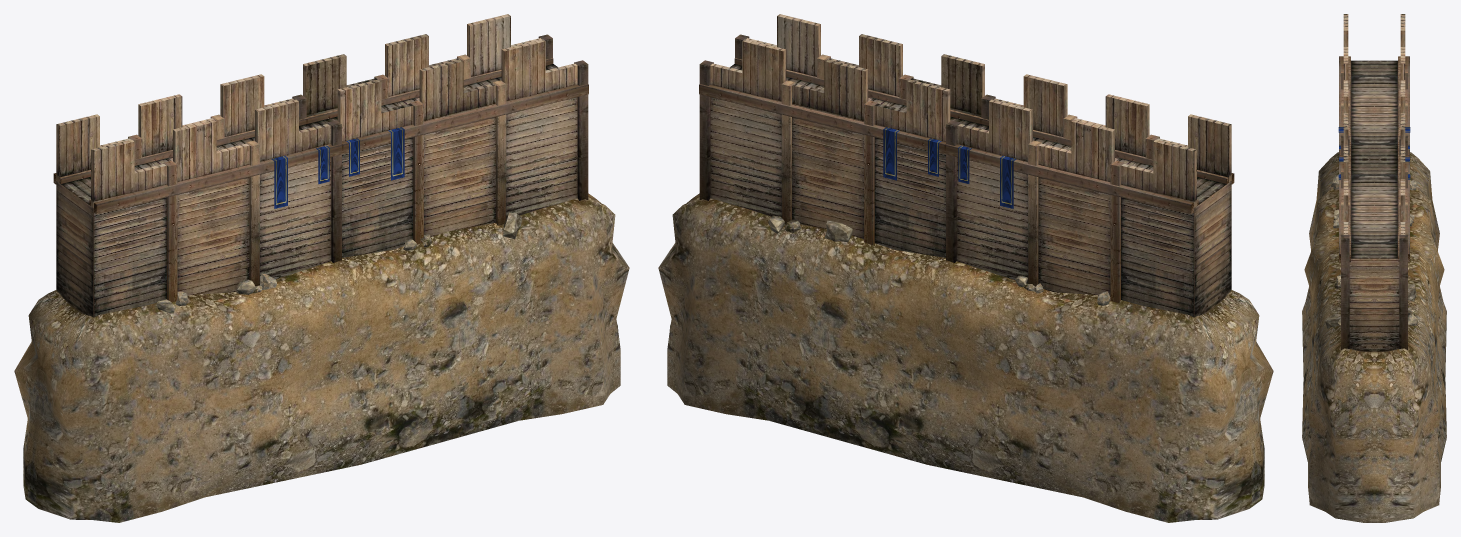
The model's file is structures-romans-siege-wall-medium.glb.
The picture shows the model from 3 angles, left to right: view 1: azimuth 30°, elevation 25°; view 2: azimuth 150°, elevation 25°; view 3: azimuth 270°, elevation 25°; orthographic projection. The views are drawn at different scales.
Parts seen in each view (by area): view 1: siege_medium_turf, Cube.021, siege_medium_banner; view 2: siege_medium_turf, Cube.021, siege_medium_banner; view 3: siege_medium_turf, Cube.021.
Boxes of the visible parts, left/top/right/bottom form: siege_medium_turf: left=14, top=193, right=629, bottom=522; Cube.021: left=53, top=14, right=588, bottom=317; siege_medium_banner: left=271, top=127, right=404, bottom=208; siege_medium_turf: left=658, top=193, right=1273, bottom=522; Cube.021: left=699, top=14, right=1234, bottom=317; siege_medium_banner: left=883, top=127, right=1016, bottom=208; siege_medium_turf: left=1302, top=152, right=1446, bottom=522; Cube.021: left=1339, top=14, right=1409, bottom=352.
Bounding box in the file's own units: 11.42 × 6.68 × 2.97.
3 materials, 3 textured.
